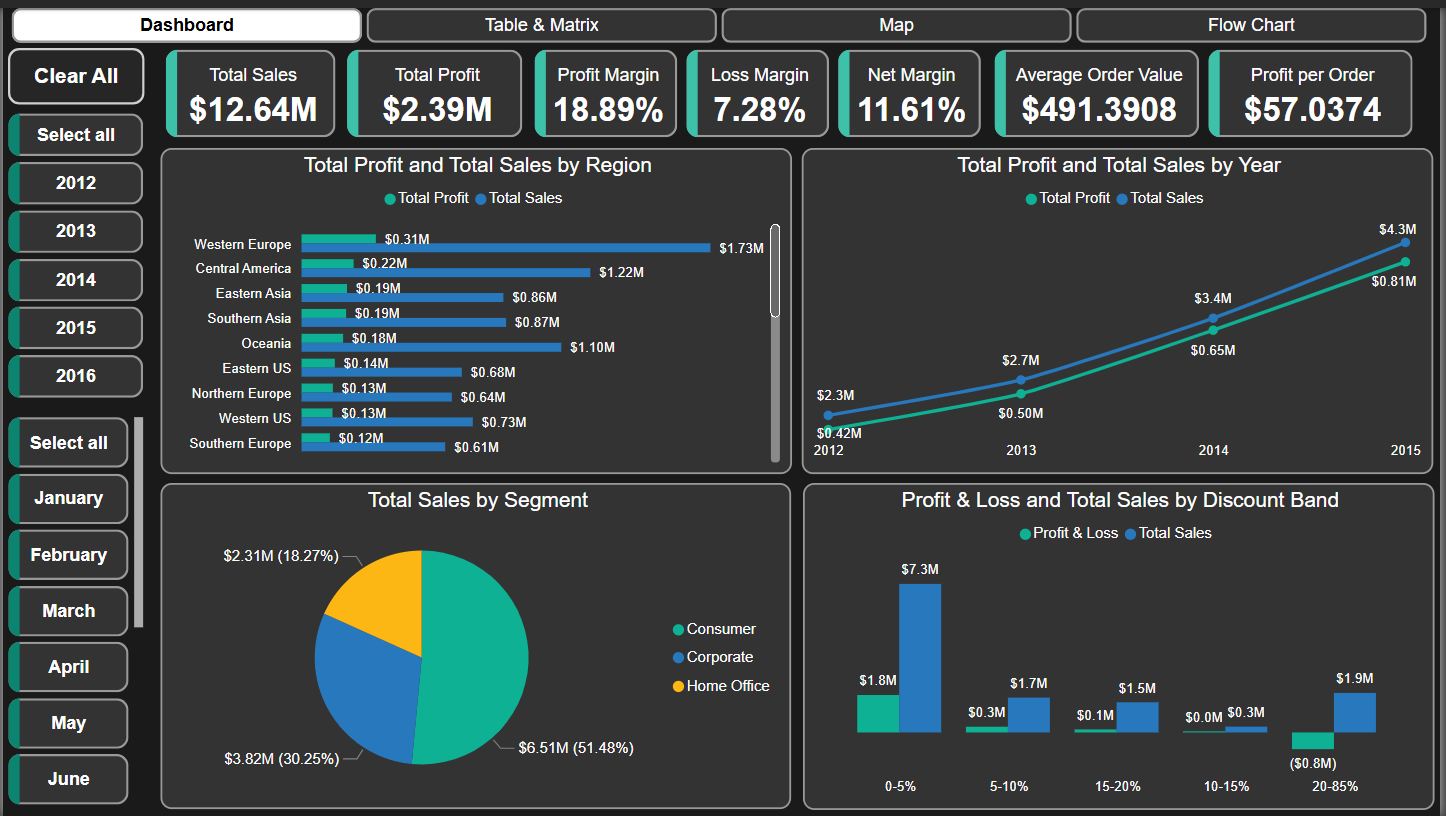

Layout of this report page (visuals, bound fields, positions):
{"tool":"powerbi","page":{"name":"Executive Summary","canvas":[1280,720],"ordinal":0},"visuals":[{"type":"pageNavigator","box":[8.1,0,1263.8,31.9],"z":0},{"type":"actionButton","box":[4.9,35.6,121.5,50.3],"z":1000},{"type":"advancedSlicerVisual","fields":{"Values":["Dim_Date.Year"]},"box":[0,89.6,130.1,263.8],"z":4000},{"type":"advancedSlicerVisual","fields":{"Values":["Dim_Date.Date.Variation.Date Hierarchy.Month"]},"box":[0,359.5,130.1,357.1],"z":5000},{"type":"cardVisual","fields":{"Data":["_Measures.Total Sales"]},"box":[139.9,31.9,174.2,88.3],"z":5500},{"type":"cardVisual","fields":{"Data":["_Measures.Total Profit"]},"box":[314.1,31.9,166.9,88.3],"z":6000},{"type":"cardVisual","fields":{"Data":["_Measures.Profit Margin","_Measures.Loss Margin","_Measures.Net Margin"]},"box":[481,31.9,409.8,88.3],"z":6500},{"type":"cardVisual","fields":{"Data":["_Measures.Average Order Value","_Measures.Profit per Order"]},"box":[890.8,31.9,382.8,88.3],"z":7000},{"type":"clusteredBarChart","fields":{"Y":["_Measures.Total Profit","_Measures.Total Sales"],"Category":["Dim_Customers.Region","Dim_Customers.Country","Dim_Customers.City"]},"box":[139.9,124.1,562,290.8],"z":8000},{"type":"lineChart","fields":{"Y":["_Measures.Total Profit"],"Y2":["_Measures.Total Sales"],"Category":["Dim_Date.Date.Variation.Date Hierarchy.Year","Dim_Date.Date.Variation.Date Hierarchy.Month"]},"box":[711.7,124.1,562,290.8],"z":9000},{"type":"pieChart","fields":{"Y":["_Measures.Total Sales"],"Category":["Dim_Customers.Segment"]},"box":[139.9,423.3,562,290.8],"z":10000},{"type":"clusteredColumnChart","fields":{"Y":["_Measures.Profit and Loss","_Measures.Total Sales"],"Category":["Fact_Orders.Dicount Band"]},"box":[711.7,423,562,291],"z":11000}]}

Visuals, with their boxes in screenshot pixels (x1, y1, x2, y2), scaled from the page's 1280x720 canvas onto the 1446x816 screenshot:
pageNavigator: Rect(9, 0, 1437, 36)
actionButton: Rect(6, 40, 143, 97)
advancedSlicerVisual - Dim_Date.Year: Rect(0, 102, 147, 401)
advancedSlicerVisual - Dim_Date.Date.Variation.Date Hierarchy.Month: Rect(0, 407, 147, 812)
cardVisual - _Measures.Total Sales: Rect(158, 36, 355, 136)
cardVisual - _Measures.Total Profit: Rect(355, 36, 543, 136)
cardVisual - _Measures.Profit Margin x _Measures.Loss Margin: Rect(543, 36, 1006, 136)
cardVisual - _Measures.Average Order Value x _Measures.Profit per Order: Rect(1006, 36, 1439, 136)
clusteredBarChart - _Measures.Total Profit x _Measures.Total Sales: Rect(158, 141, 793, 470)
lineChart - _Measures.Total Profit x _Measures.Total Sales: Rect(804, 141, 1439, 470)
pieChart - _Measures.Total Sales x Dim_Customers.Segment: Rect(158, 480, 793, 809)
clusteredColumnChart - _Measures.Profit and Loss x _Measures.Total Sales: Rect(804, 479, 1439, 809)
